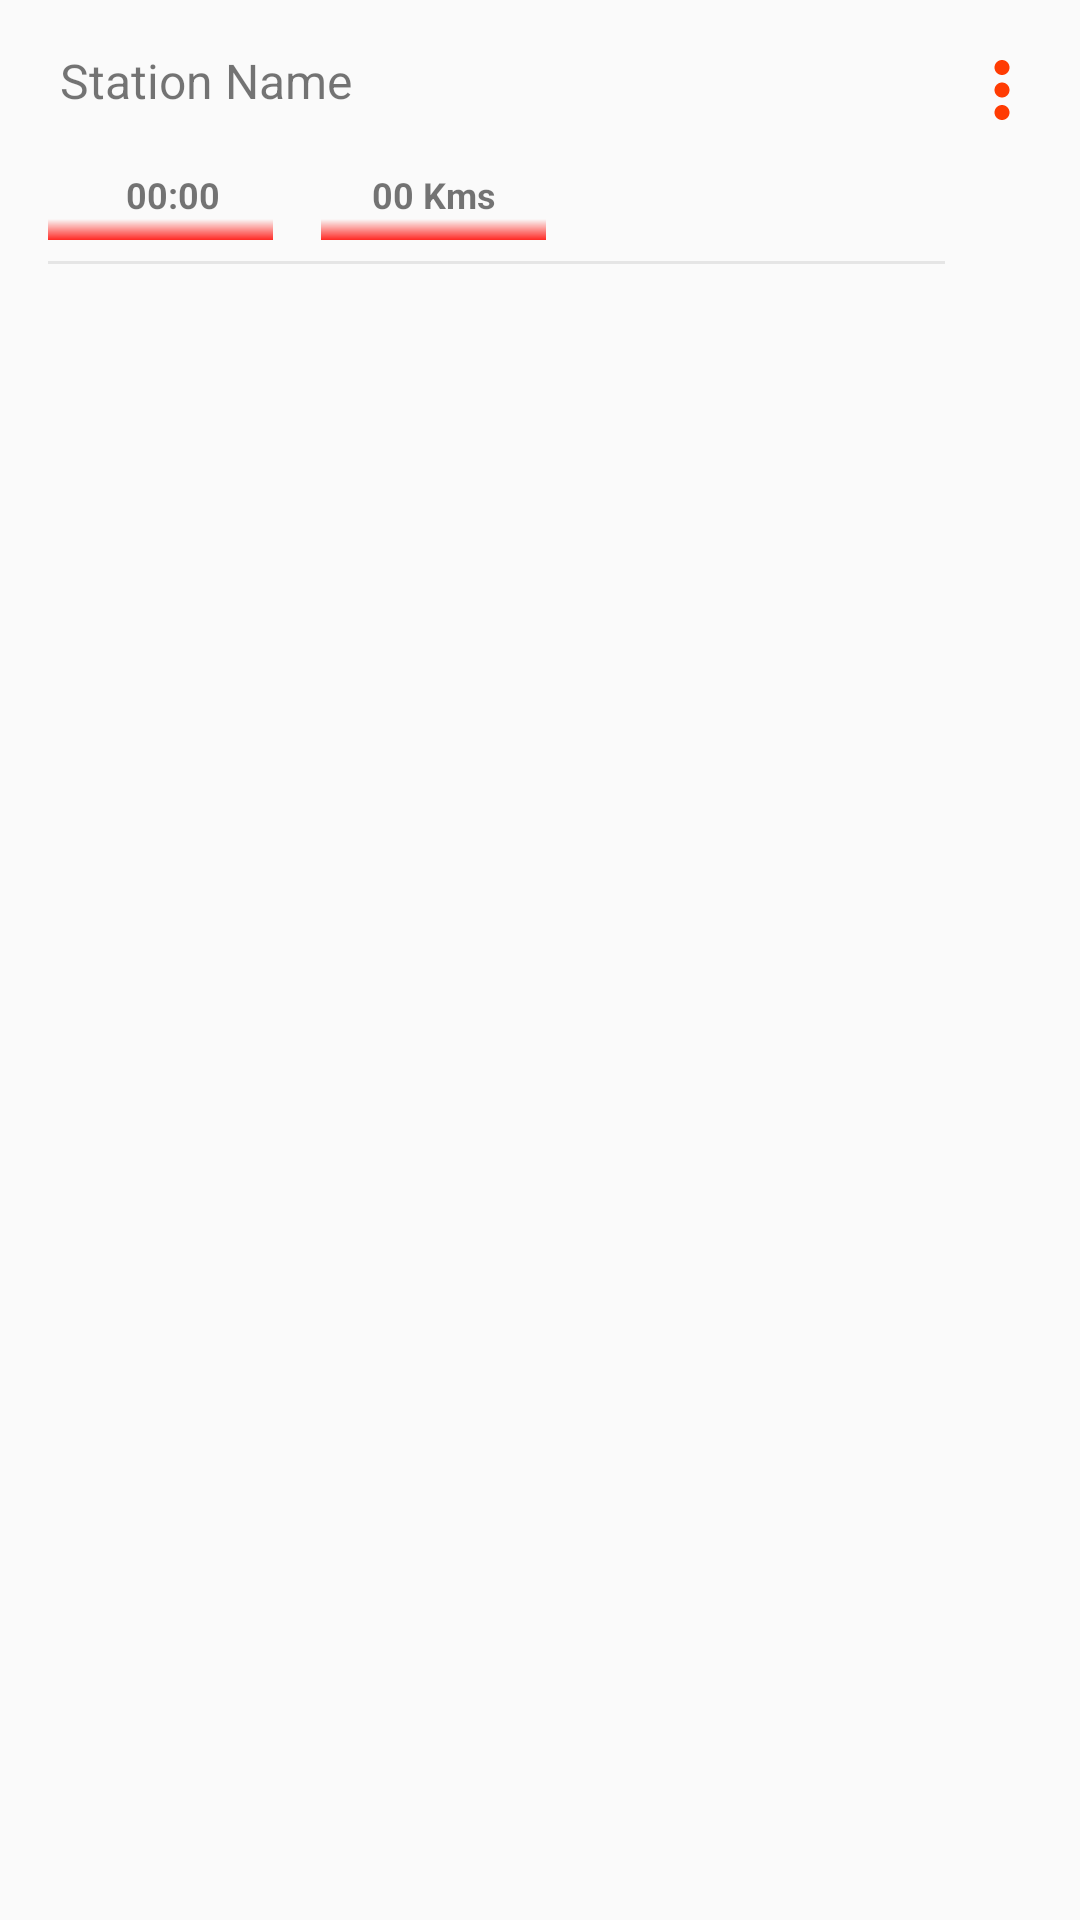

Icon bounding boxes for this 1080x1920 phone screenshot, format (x1, y1, x2, y2):
more vert: (994, 60, 1010, 120)
